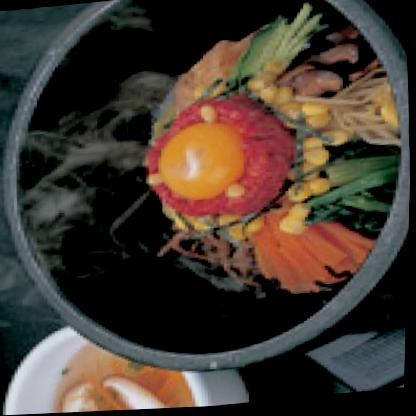bibimbap: (91, 5, 415, 311)
